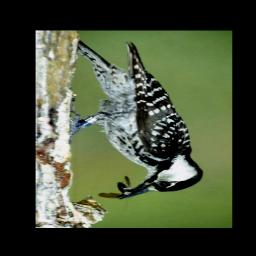Woodpecker: (77, 38, 204, 200)
